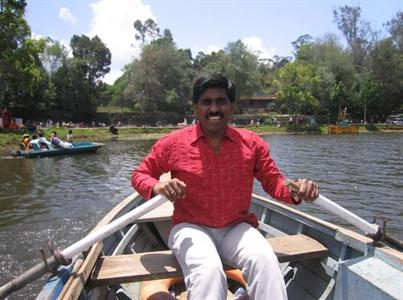person: (132, 73, 321, 300)
